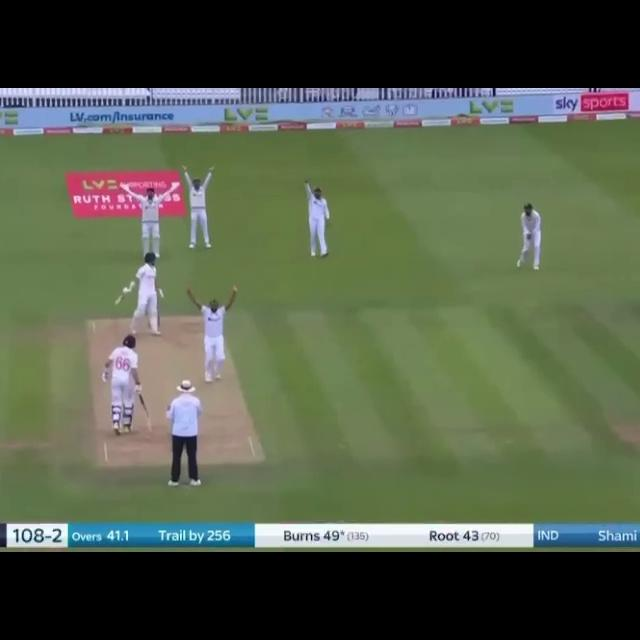umpire: (158, 380, 216, 486)
